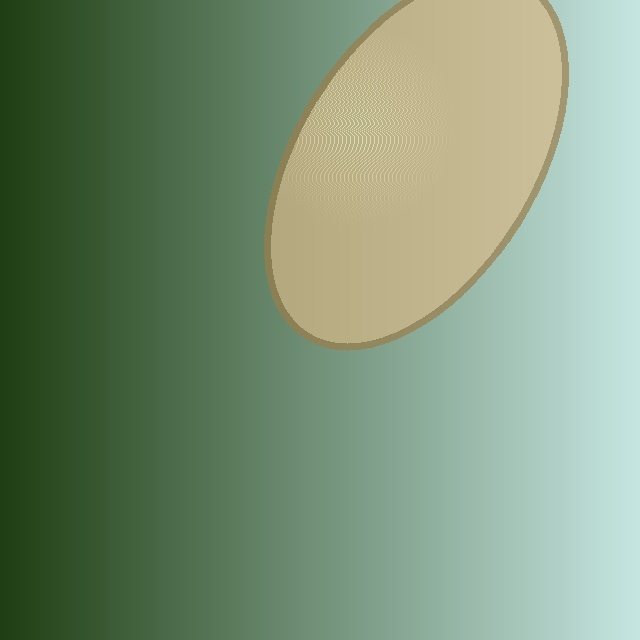lens: (267, 0, 565, 346)
